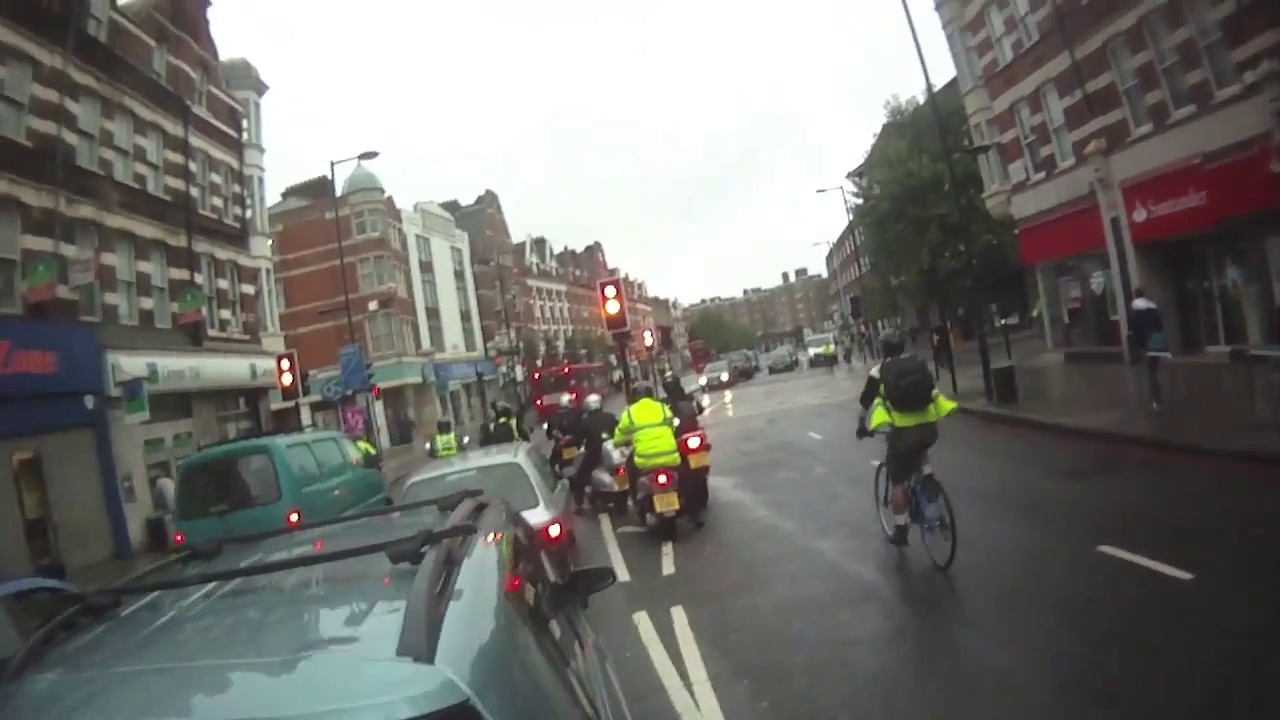cyclist_back: (854, 327, 971, 584), (615, 381, 687, 557)
